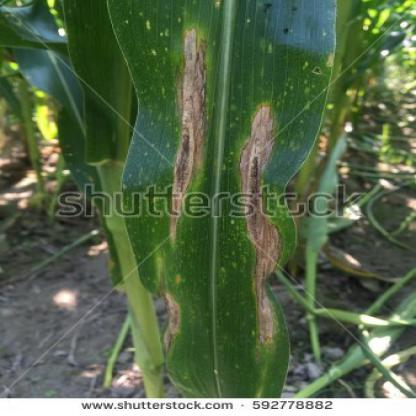corn leaf blight: (111, 1, 334, 398)
